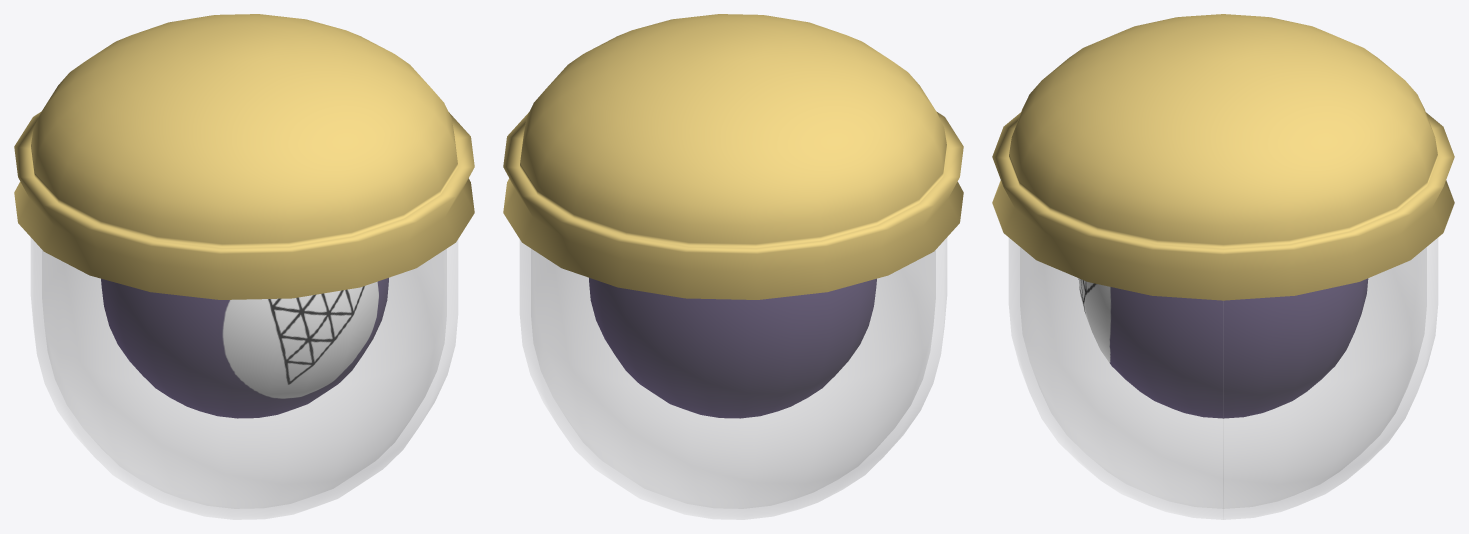
3 views of the same model, side by side, from view 1: azimuth 30°, elevation 25°; view 2: azimuth 150°, elevation 25°; view 3: azimuth 270°, elevation 25° (orthographic).
Visible parts, largest first — view 1: CapsuleYellowTop, CapsuleYellowBottom, Ball; view 2: CapsuleYellowTop, CapsuleYellowBottom, Ball; view 3: CapsuleYellowTop, CapsuleYellowBottom, Ball.
Part boxes in pixels (box(x1,y1,x2,y2)): CapsuleYellowTop: box(14, 14, 474, 299); CapsuleYellowBottom: box(31, 238, 457, 519); Ball: box(101, 278, 388, 418); CapsuleYellowTop: box(503, 14, 963, 299); CapsuleYellowBottom: box(520, 238, 946, 519); Ball: box(589, 278, 876, 418); CapsuleYellowTop: box(992, 14, 1454, 300); CapsuleYellowBottom: box(1009, 238, 1437, 519); Ball: box(1078, 278, 1368, 418).
Size of the model in its own units: 0.021 by 0.0227 by 0.021.
3 materials, 1 textured.
